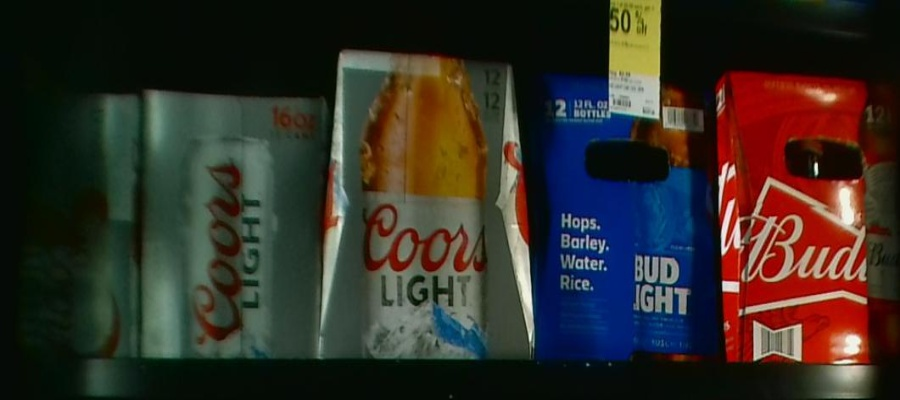bottle: (331, 46, 531, 360), (535, 73, 724, 367), (721, 71, 898, 364), (142, 87, 325, 366), (3, 94, 139, 357)
